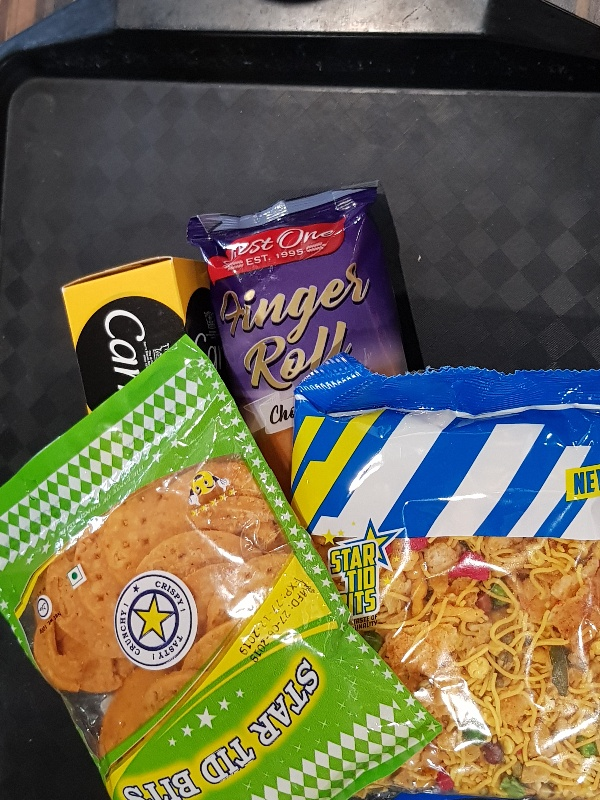Carr's Ginger Lemon Cremes: (61, 252, 233, 417)
Star Tidbits 'O' Ring: (1, 333, 441, 800)
Star Tidbits Mixer: (289, 352, 600, 798)
Tinges Roll Chocolate: (187, 178, 424, 503)
